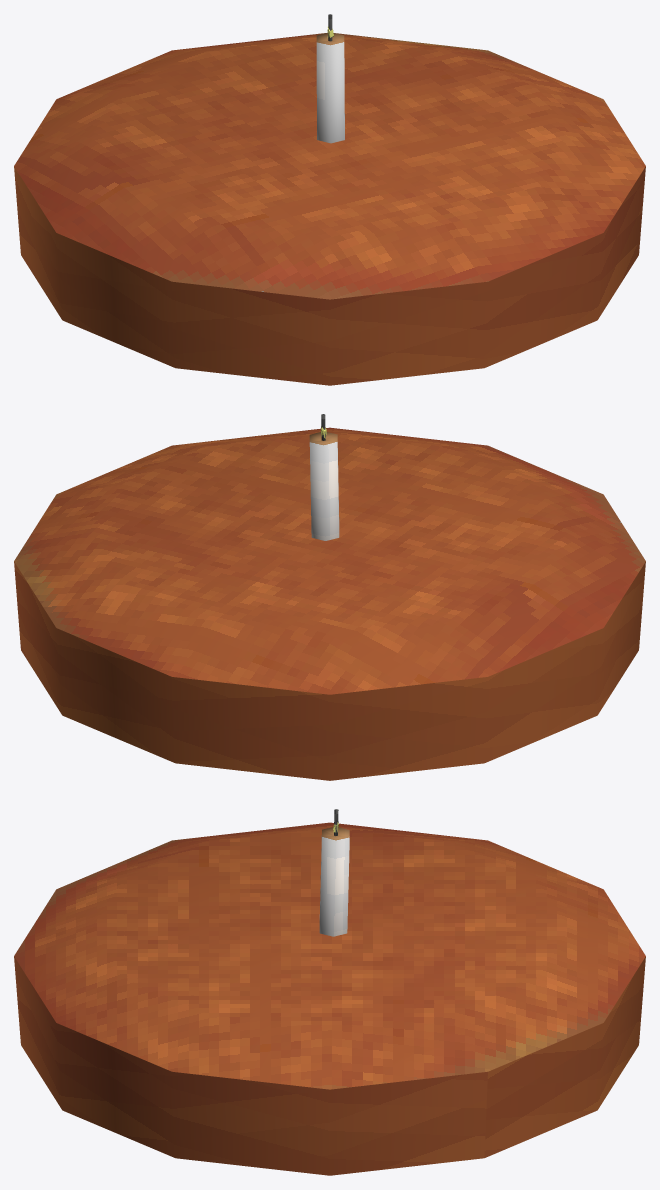
Rendered from CakeNoPan_Candle.fbx.
3 renders of one model, top to bottom at view 1: azimuth 30°, elevation 25°; view 2: azimuth 150°, elevation 25°; view 3: azimuth 270°, elevation 25°, orthographic.
Parts seen in each view (by area): view 1: Cake001.001; view 2: Cake001.001; view 3: Cake001.001.
Boxes of the visible parts, x1=… form: Cake001.001: x1=14, y1=14, x2=645, y2=385; Cake001.001: x1=14, y1=414, x2=645, y2=780; Cake001.001: x1=14, y1=809, x2=645, y2=1175.
Size of the model in its own units: 56.33 by 23.28 by 56.33.
